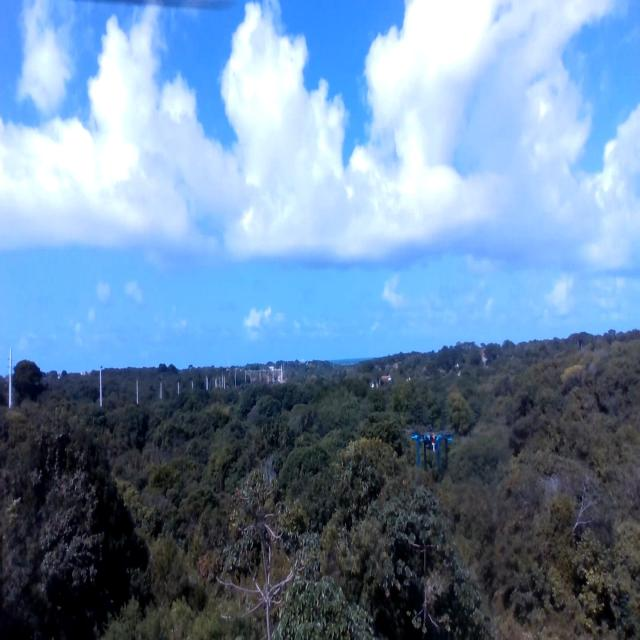-uav-: (404, 419, 461, 481)
